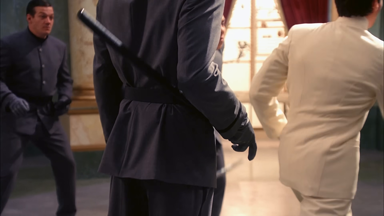bladed_weapon: (71, 3, 177, 100)
